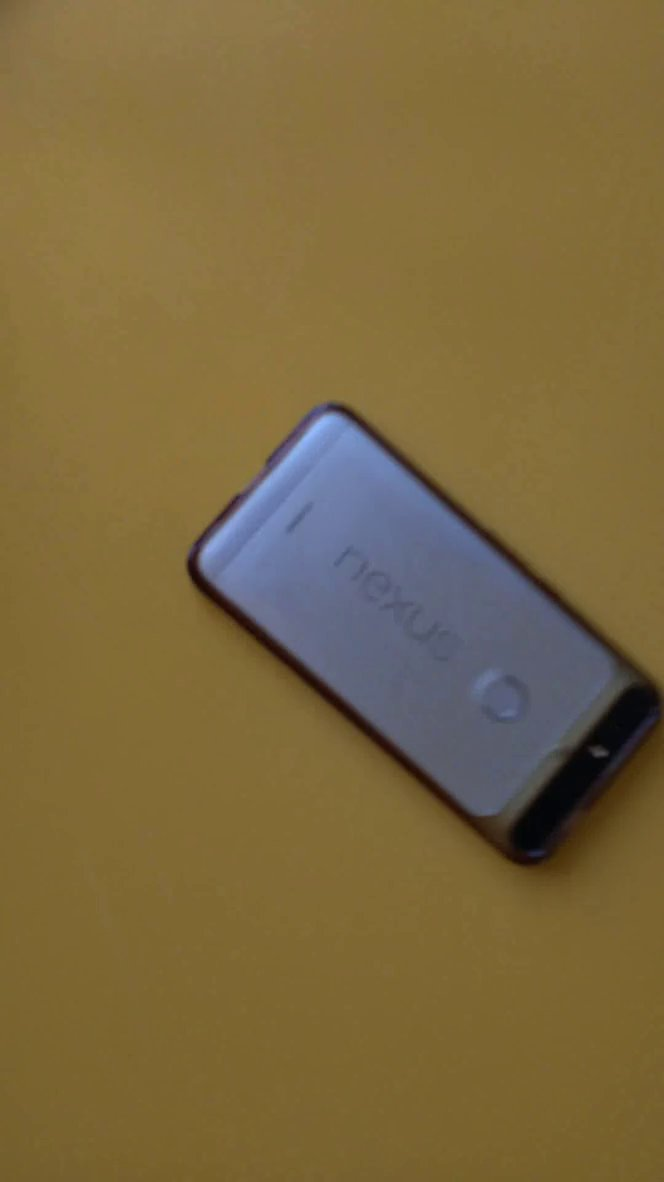phone: (159, 392, 664, 912)
